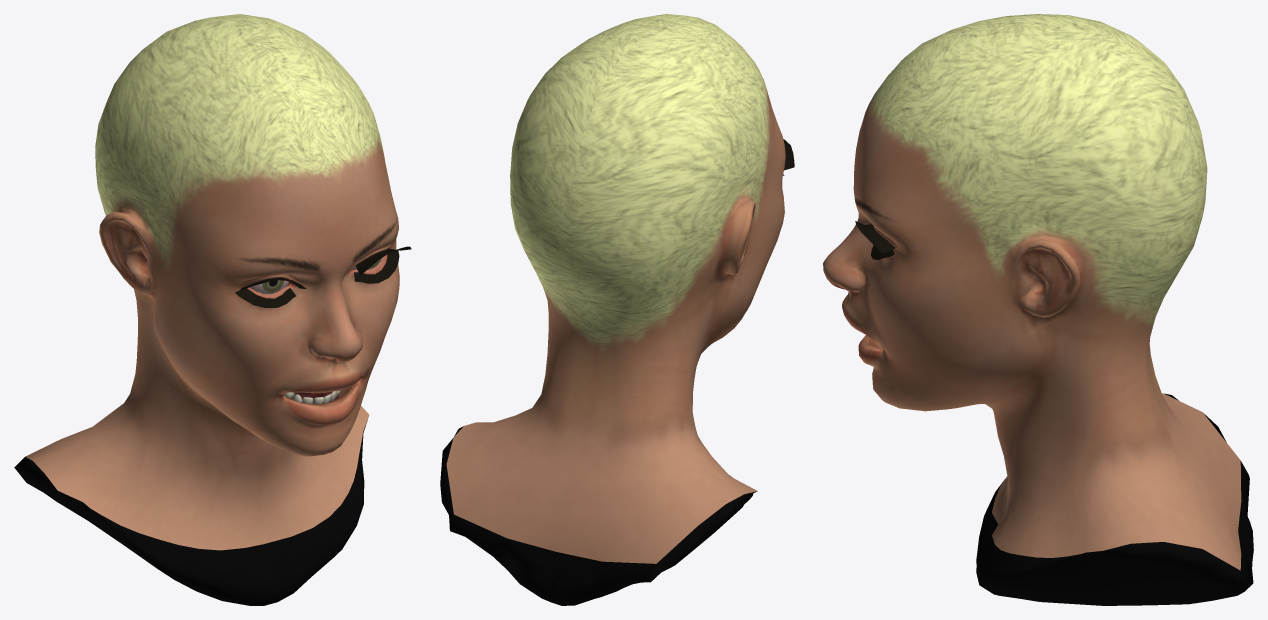
File: Head_ee.obj
3 views of the same model, side by side, from view 1: azimuth 30°, elevation 25°; view 2: azimuth 150°, elevation 25°; view 3: azimuth 270°, elevation 25° (orthographic). The views are drawn at different scales.
Parts seen in each view (by area): view 1: BodyParts; view 2: BodyParts; view 3: BodyParts.
Boxes of the visible parts, <box> form: BodyParts: <box>14,14,411,605</box>; BodyParts: <box>440,14,794,605</box>; BodyParts: <box>823,14,1253,605</box>.
Size of the model in its own units: 21.19 by 35.94 by 24.44.
Materials: 2 (2 with a texture image).
